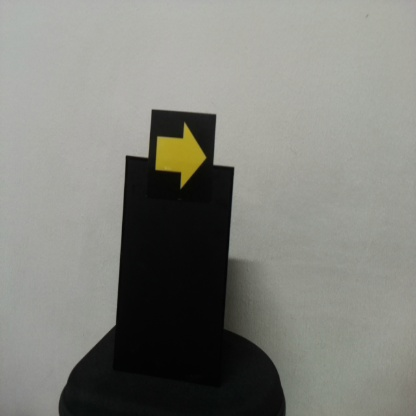id_3: (150, 112, 214, 201)
